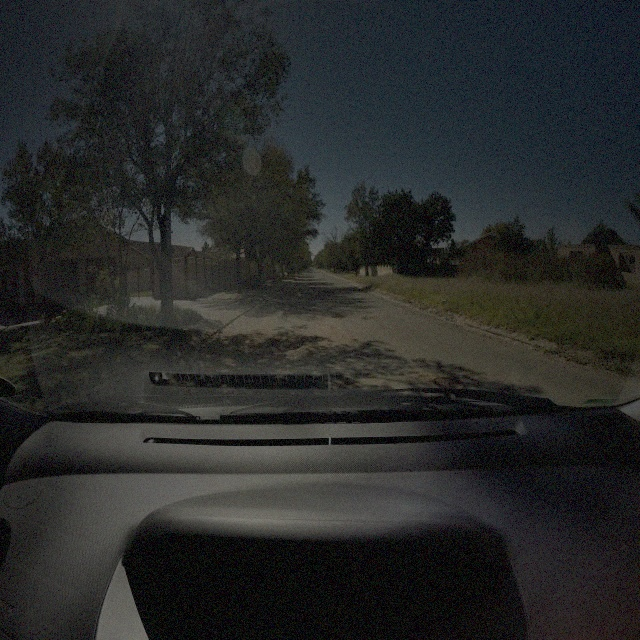pothole: (434, 373, 465, 392), (363, 314, 378, 322), (331, 312, 346, 319)
